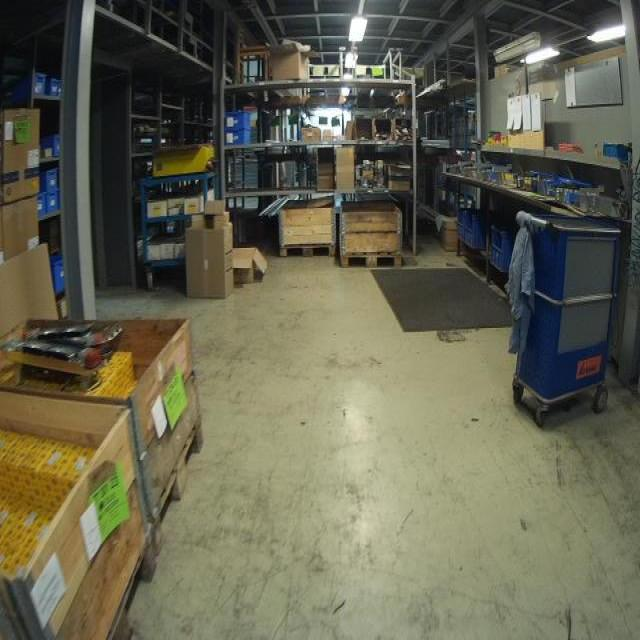pallet: (152, 411, 204, 559), (104, 534, 158, 640), (339, 249, 402, 270), (279, 240, 337, 259)
small_load_carrier: (484, 222, 513, 265), (14, 72, 50, 105), (463, 215, 489, 251), (47, 258, 66, 296), (223, 110, 254, 131), (454, 215, 470, 246), (33, 189, 49, 219), (223, 132, 249, 149), (48, 129, 65, 155), (48, 79, 65, 100), (47, 189, 60, 215), (42, 169, 61, 186)
